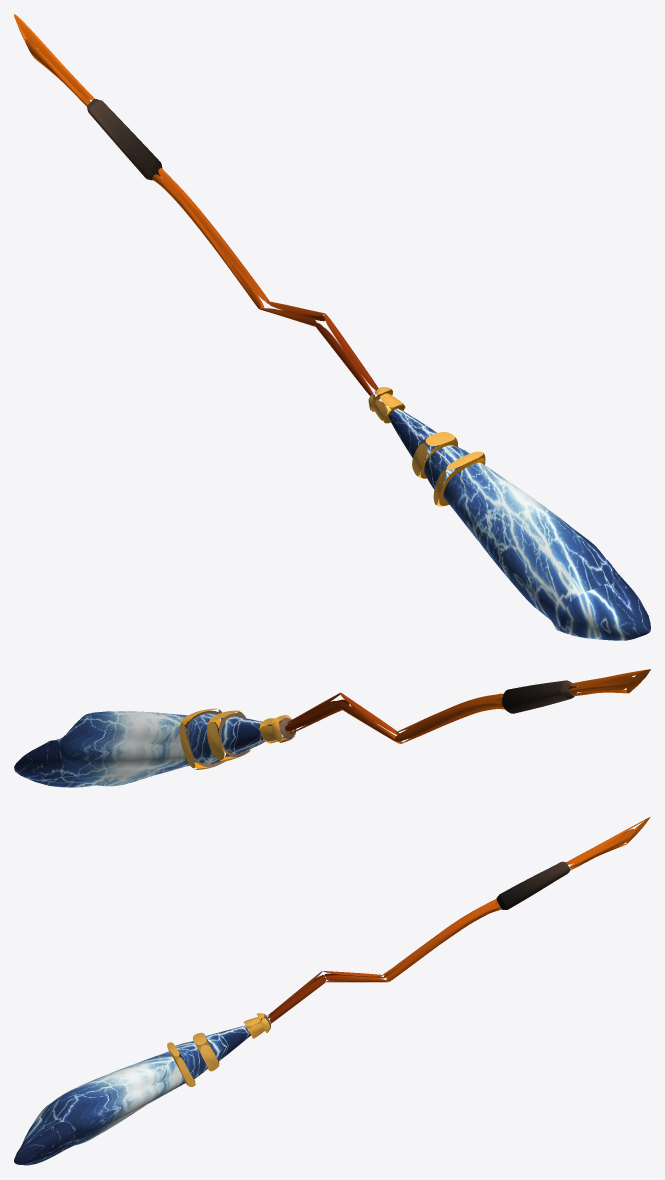
Rendered from cherryLightning.glb.
3 views of the same model, one above another, from view 1: azimuth 30°, elevation 25°; view 2: azimuth 210°, elevation 25°; view 3: azimuth 270°, elevation 25° (orthographic). The views are drawn at different scales.
Parts seen in each view (by area): view 1: MainStick; view 2: MainStick; view 3: MainStick.
Boxes of the visible parts, <box> form: MainStick: <box>14,14,650,640</box>; MainStick: <box>14,669,650,787</box>; MainStick: <box>14,817,650,1165</box>.
Size of the model in its own units: 4.77 by 7.8 by 16.2.
1 material, 1 textured.
